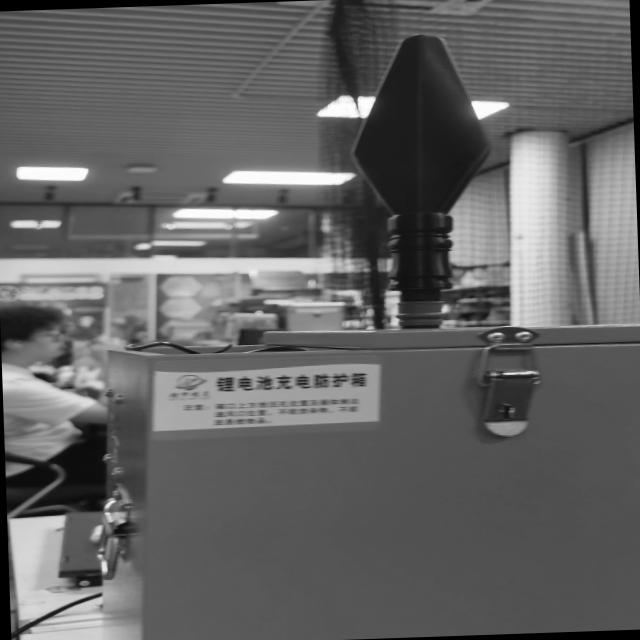base: (394, 298, 446, 328)
